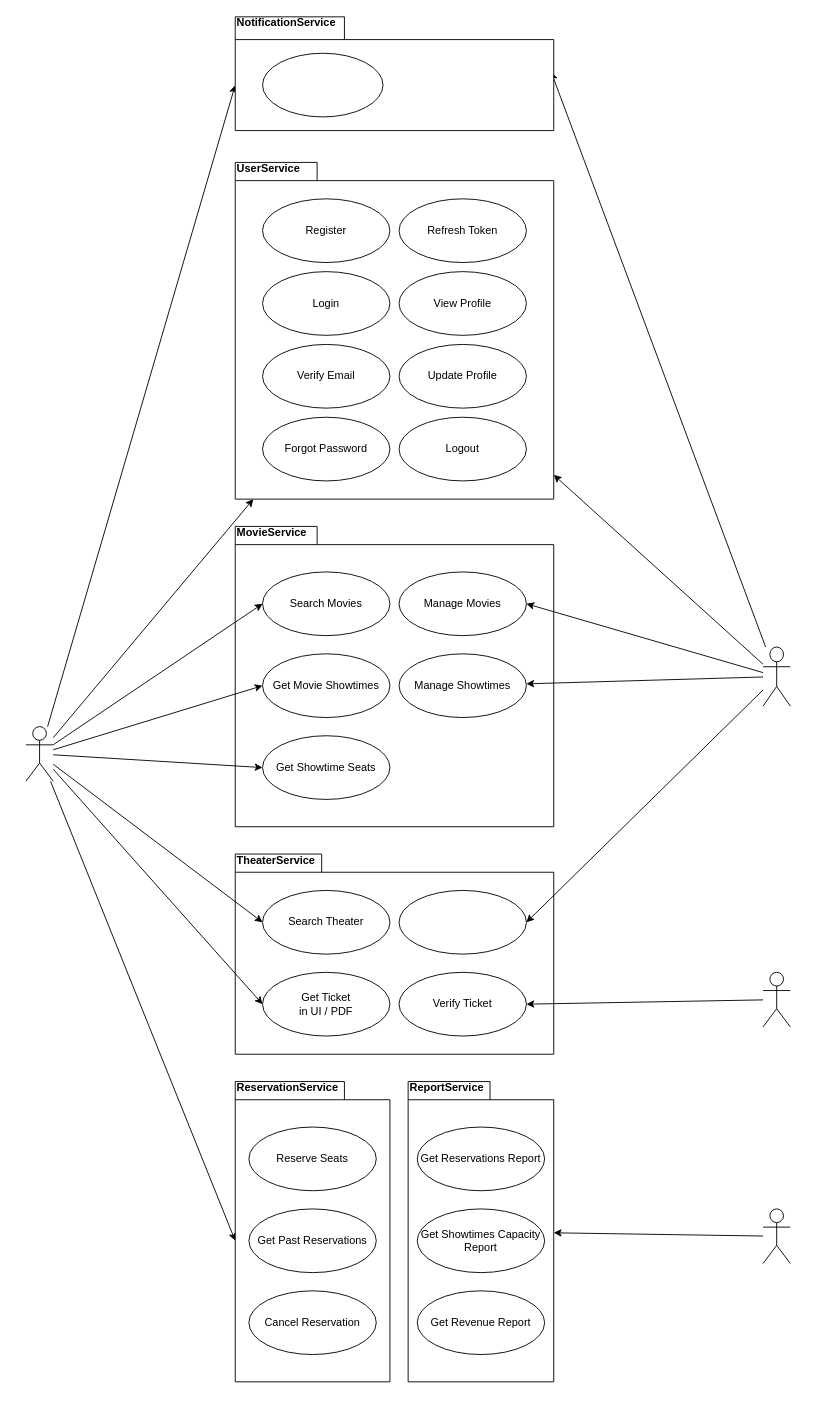
Image size: 831x1406. Some labels were removed from this diagram. The centre of each missing label's shape, as x and y in pixels:
Admin: point (776, 676)
Business: point (776, 1236)
Customer: point (39, 753)
Get Email Notification: point (322, 84)
Manage Theater: point (462, 922)
Ticket Attendant: point (776, 999)
